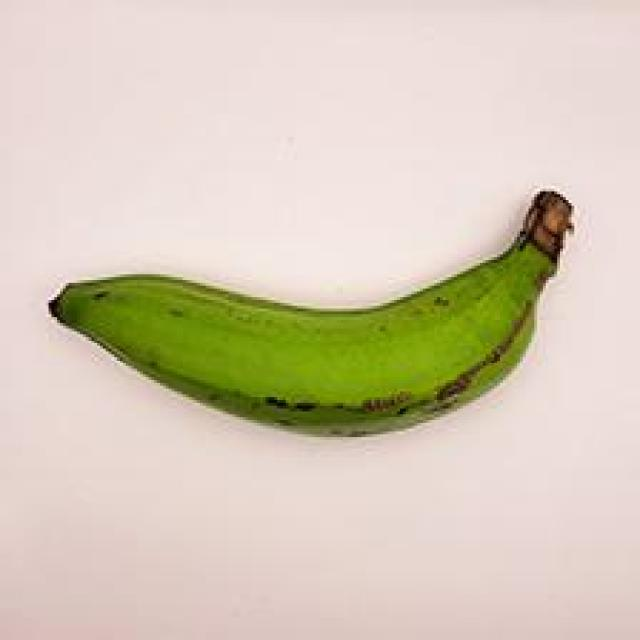Raw: (34, 166, 594, 468)
